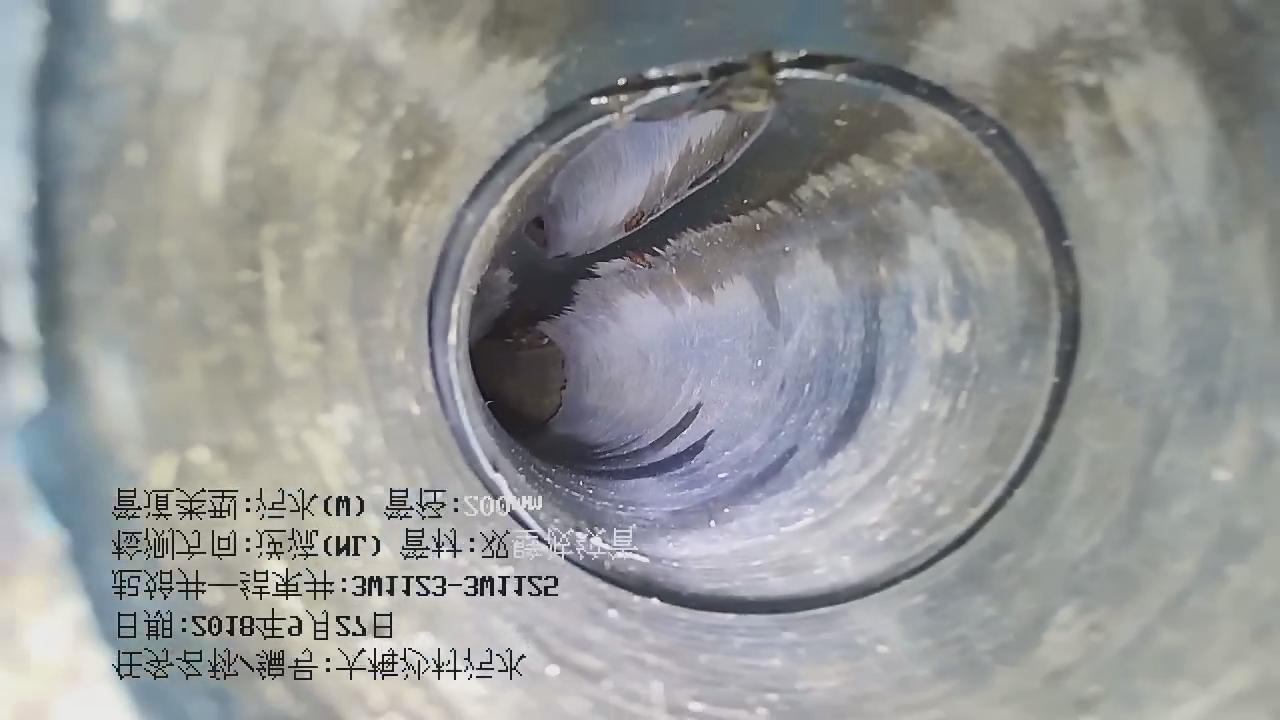CKTJ: (427, 52, 1080, 615)
